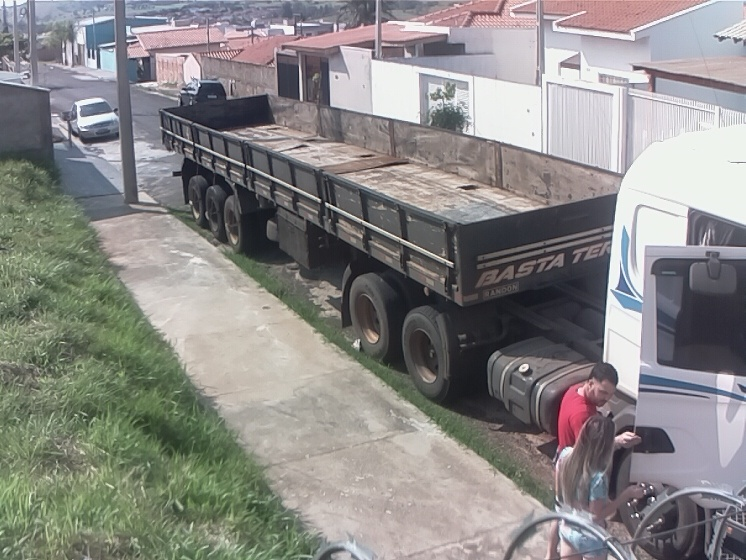person: (557, 362, 640, 559), (552, 414, 642, 560)
